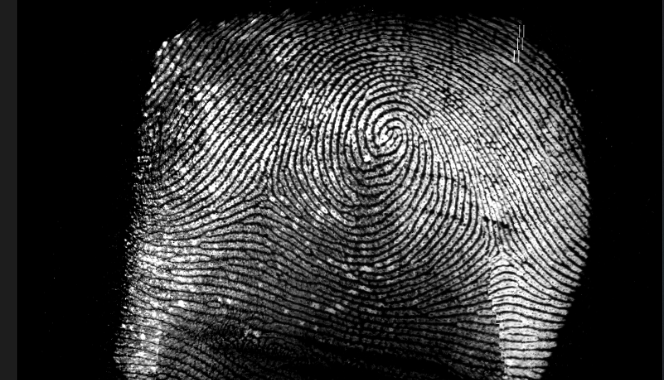deltas: (473, 221, 527, 280), (243, 166, 292, 222)
nucleo: (360, 104, 413, 161)
